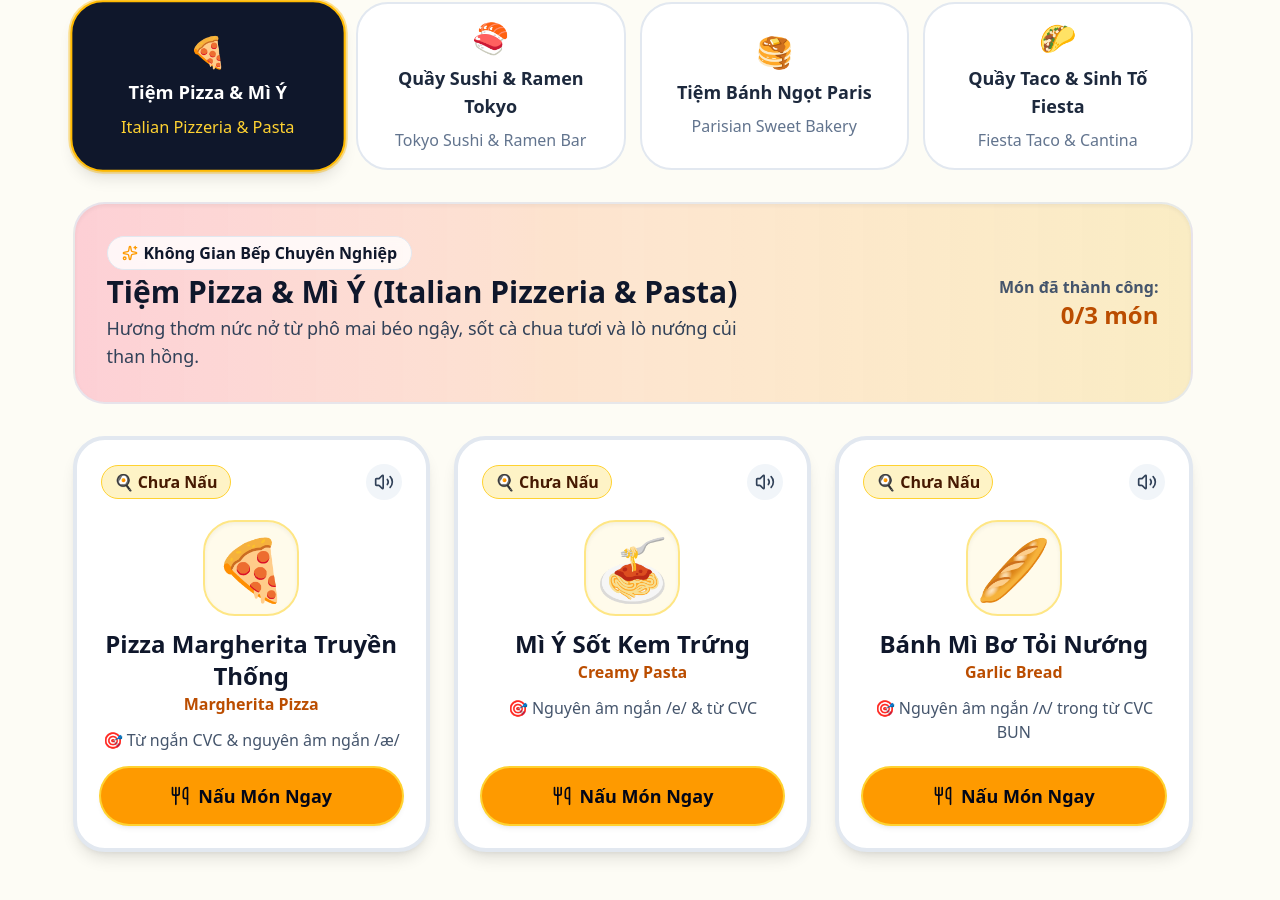
Scenario: Phonics Kitchen UI Components › PhonicsKitchenExperience Main Container › renders station recipes, opens workbench modal, and cooks recipe
(page scrolled)
Expected: the heading "Tiệm Pizza & Mì Ý (Italian Pizzeria & Pasta)" is shown, x1=106 y1=274 x2=778 y2=310
Expected: the element with test id "kitchen-recipe-card-margherita-pizza" is shown, x1=72 y1=436 x2=430 y2=852
Note: Click "Nấu Món Ngay" for Margherita Pizza
Click the button with aria-label "nấu món pizza margherita" at (251, 796), box x1=100 y1=768 x2=402 y2=824
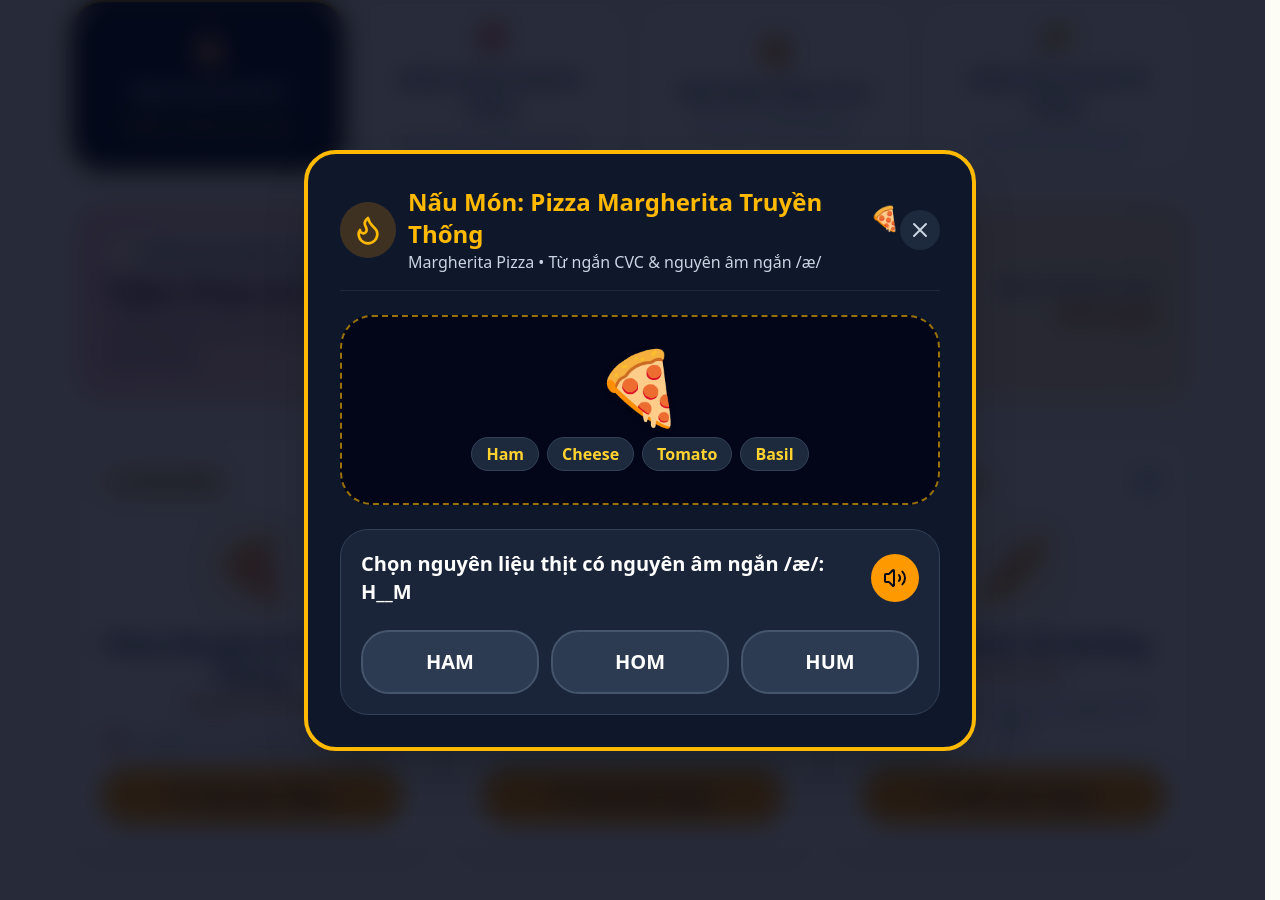
Expected: the dialog named "bàn chế biến món pizza margherita" is shown
Note: Click correct option "HAM"
Click the button "HAM" at (450, 662), box x1=361 y1=630 x2=539 y2=694
Wait 1600 ms
(page scrolled)
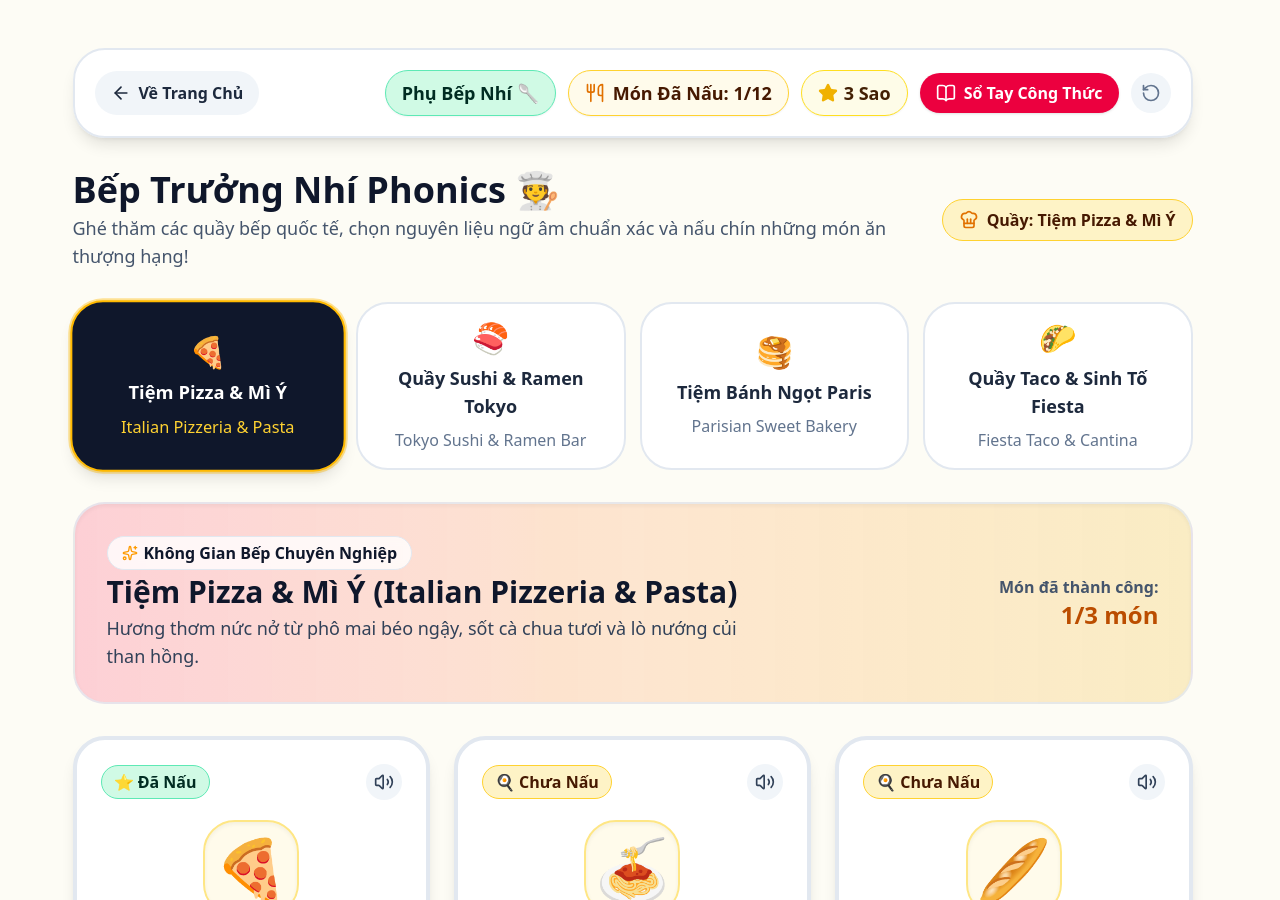
Expected: the text "Món Đã Nấu: 1/12" is shown, x1=613 y1=79 x2=772 y2=107
Expected: the text "3 Sao" is shown, x1=844 y1=79 x2=891 y2=107
